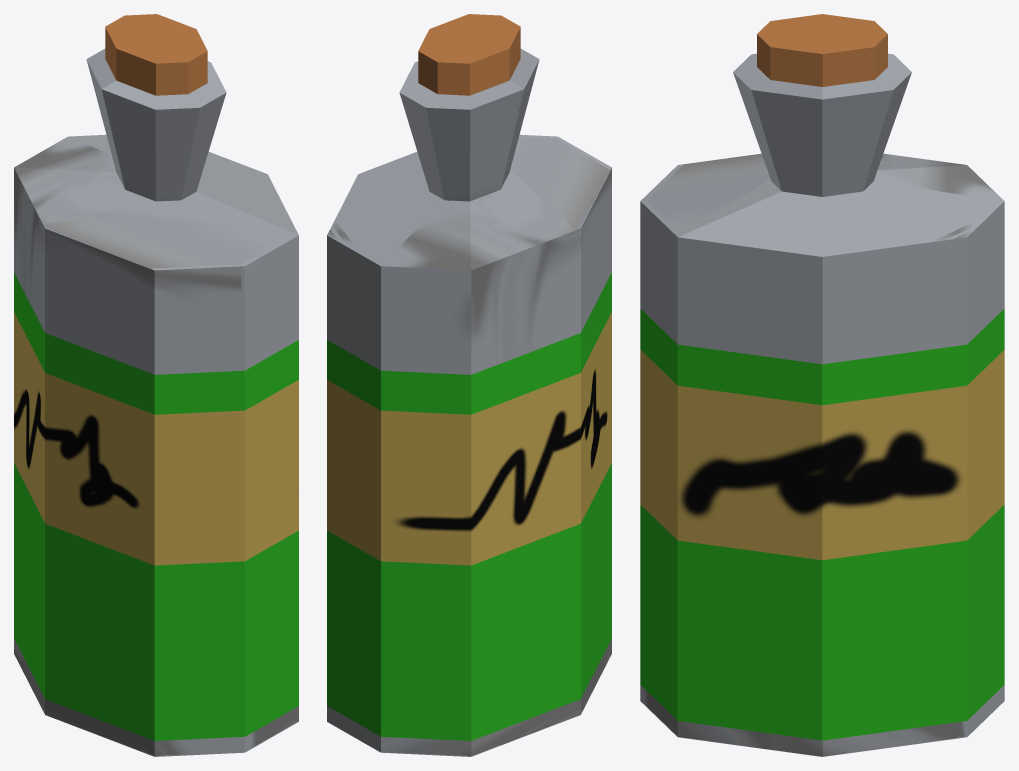
File: PoisonBottle.glb
3 views of the same model, side by side, from view 1: azimuth 30°, elevation 25°; view 2: azimuth 150°, elevation 25°; view 3: azimuth 270°, elevation 25° (orthographic). The views are drawn at different scales.
Visible parts, largest first — view 1: Empty; view 2: Empty; view 3: Empty.
Boxes of the visible parts, <box> form: Empty: <box>14,14,298,756</box>; Empty: <box>327,14,611,756</box>; Empty: <box>640,14,1004,756</box>.
Bounding box in the file's own units: 0.3539 × 0.9856 × 0.4877.
Materials: 4 (2 with a texture image).
